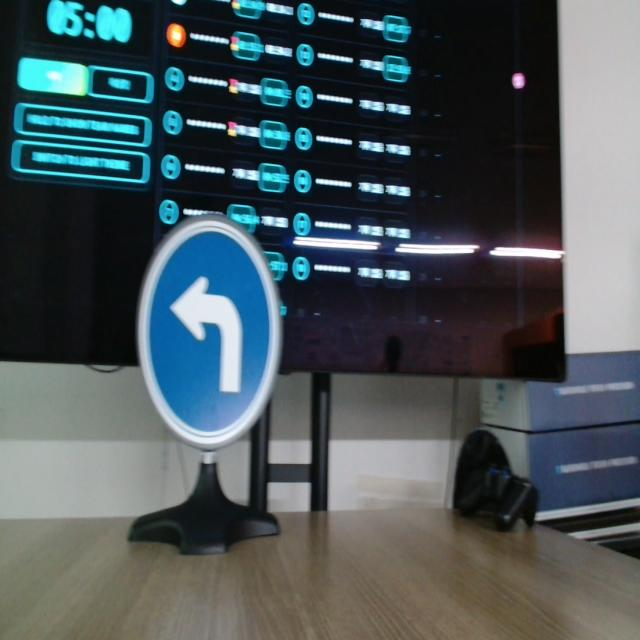left_direction: (130, 202, 290, 454)
